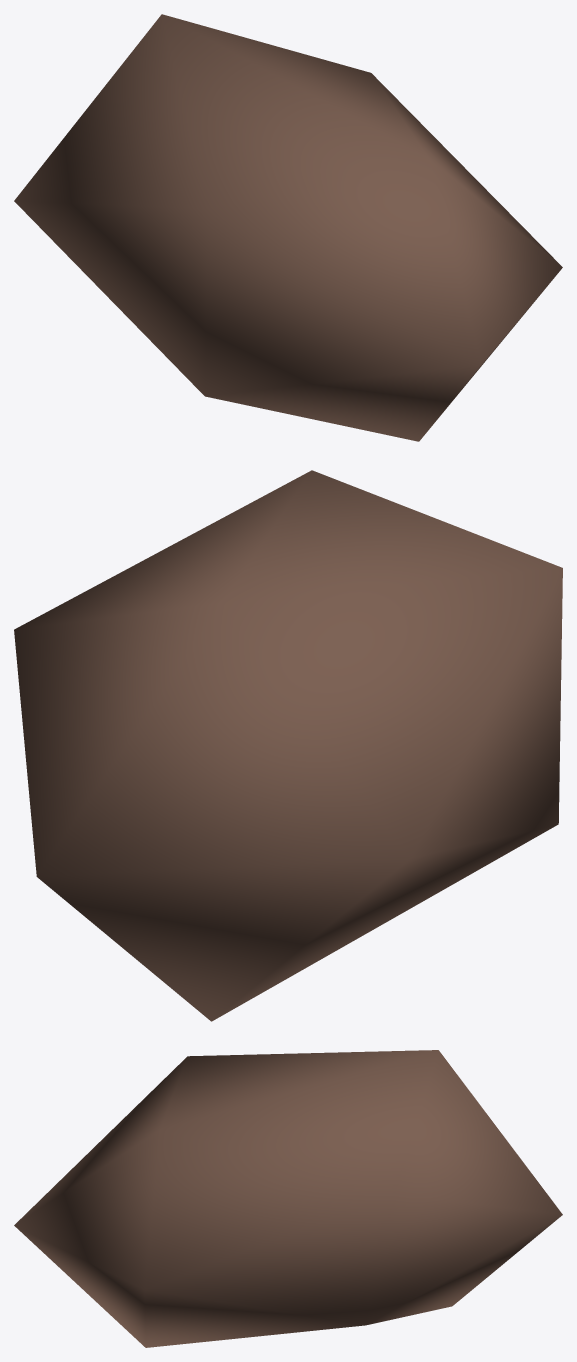
File: G_dirt_03.fbx
3 renders of one model, top to bottom at view 1: azimuth 30°, elevation 25°; view 2: azimuth 150°, elevation 25°; view 3: azimuth 270°, elevation 25°, orthographic. The views are drawn at different scales.
Visible parts, largest first — view 1: G_dirt_03; view 2: G_dirt_03; view 3: G_dirt_03.
Part boxes in pixels (x1,y1,x2,y2): G_dirt_03: [14, 14, 562, 441]; G_dirt_03: [14, 470, 562, 1021]; G_dirt_03: [14, 1050, 562, 1347].
Size of the model in its own units: 3.21 by 2.65 by 4.98.
Materials: 1 (1 with a texture image).
